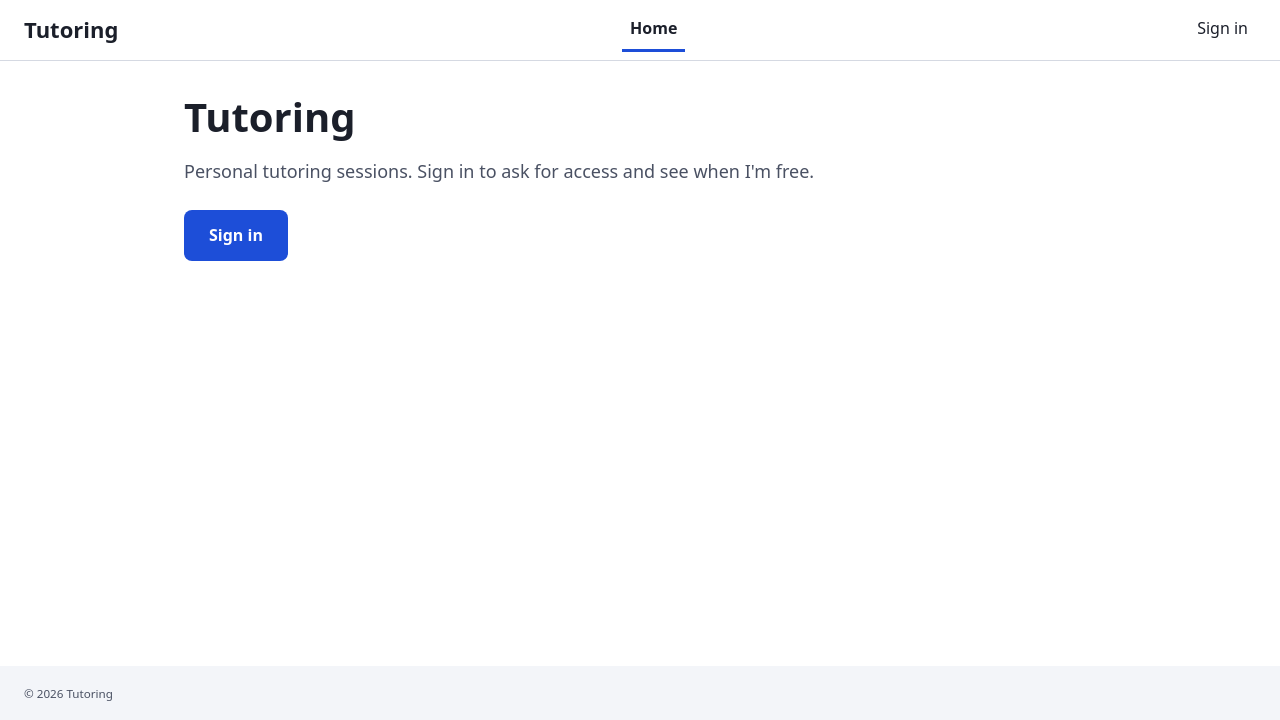
App › navigates from home to the login page via the hash
Click the link "Sign in" in the row of "Home" at (1223, 28), box [1197,17,1248,39]
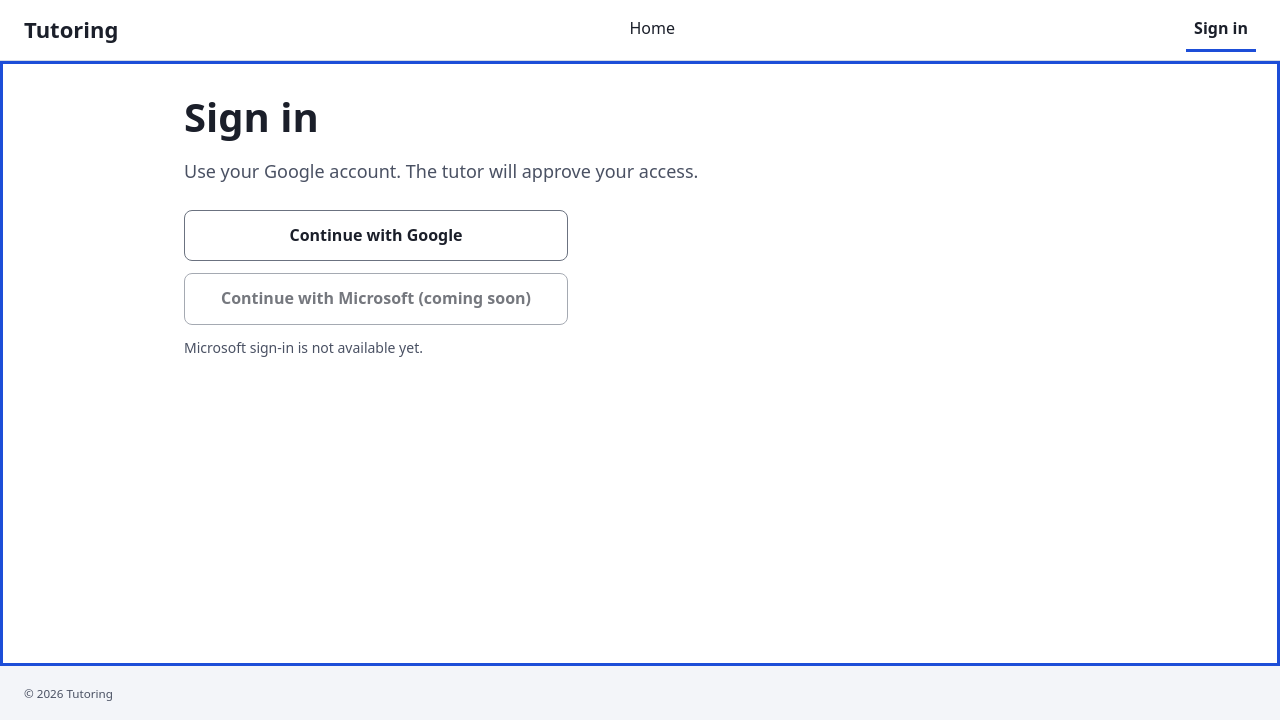
Expected: the heading "Sign in" is shown, [184,89,319,144]
